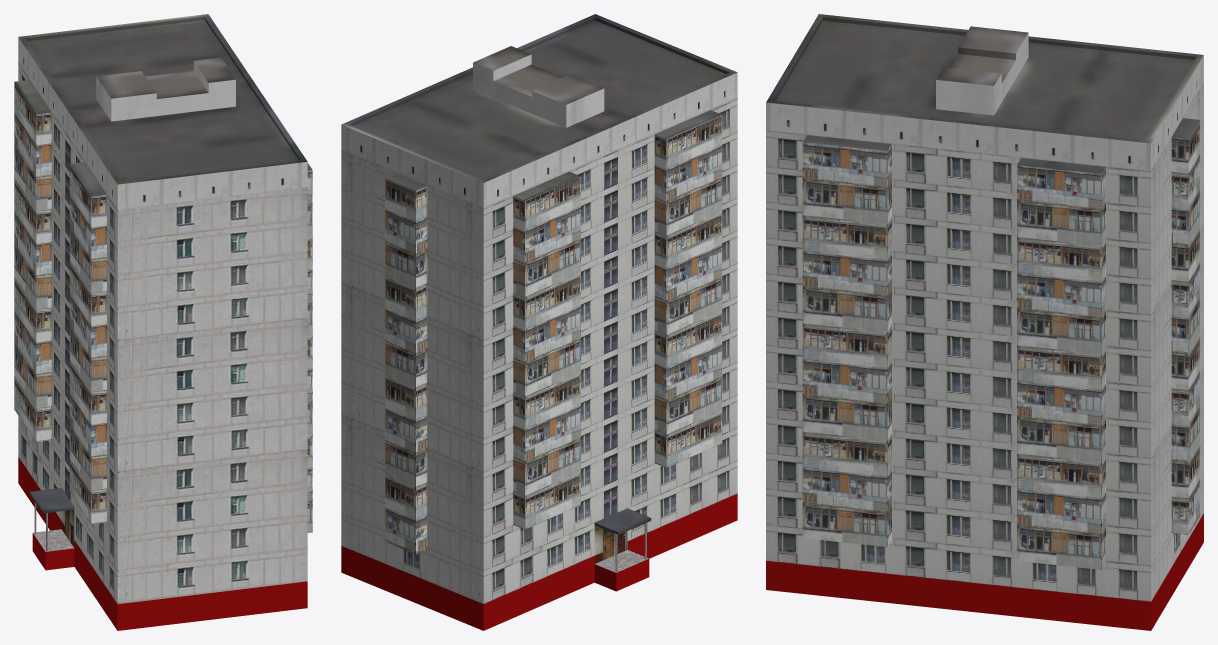
3 renders of one model, left to right at view 1: azimuth 30°, elevation 25°; view 2: azimuth 150°, elevation 25°; view 3: azimuth 270°, elevation 25°, orthographic. The views are drawn at different scales.
Parts seen in each view (by area): view 1: ID130, ID88, ID227, ID266, ID37, ID138, ID96, ID54, ID203, SketchUp, ID104, ID117 (+4 smaller); view 2: ID227, ID37, ID88, ID67, ID266, ID290, ID211, ID138, ID96, ID54, ID203, SketchUp (+7 smaller); view 3: ID306, ID104, ID219, ID88, ID138, ID96, ID211, ID290, ID203, SketchUp, ID54, ID67 (+3 smaller).
Part boxes in pixels (box(x1,y1,x2,y2)): ID130: box(117, 187, 307, 604); ID88: box(25, 17, 300, 181); ID227: box(18, 63, 117, 603); ID266: box(14, 82, 51, 441); ID37: box(69, 164, 106, 524); ID138: box(18, 457, 307, 630); ID96: box(18, 37, 307, 210); ID54: box(96, 61, 235, 121); ID203: box(18, 14, 307, 184); SketchUp: box(96, 71, 208, 98); ID104: box(307, 170, 312, 532); ID117: box(29, 488, 74, 513); ID227: box(483, 98, 737, 603); ID37: box(654, 115, 722, 467); ID88: box(349, 17, 729, 179); ID67: box(427, 186, 483, 603); ID266: box(513, 176, 580, 529); ID290: box(341, 150, 396, 568); ID211: box(385, 178, 427, 554); ID138: box(341, 493, 737, 630); ID96: box(341, 72, 737, 208); ID54: box(473, 54, 604, 127); ID203: box(341, 14, 737, 182); SketchUp: box(494, 64, 603, 104); ID306: box(766, 130, 1150, 601); ID104: box(802, 142, 891, 547); ID219: box(1017, 165, 1105, 569); ID88: box(773, 17, 1196, 140); ID138: box(766, 513, 1203, 630); ID96: box(766, 55, 1203, 171); ID211: box(1171, 120, 1199, 534); ID290: box(1151, 138, 1171, 601); ID203: box(766, 14, 1203, 143); SketchUp: box(950, 26, 1028, 83); ID54: box(936, 33, 1028, 115); ID67: box(1183, 83, 1203, 547).
Bounding box in the file's own units: 22.3 × 39.61 × 30.62.
Materials: 42 (33 with a texture image).
